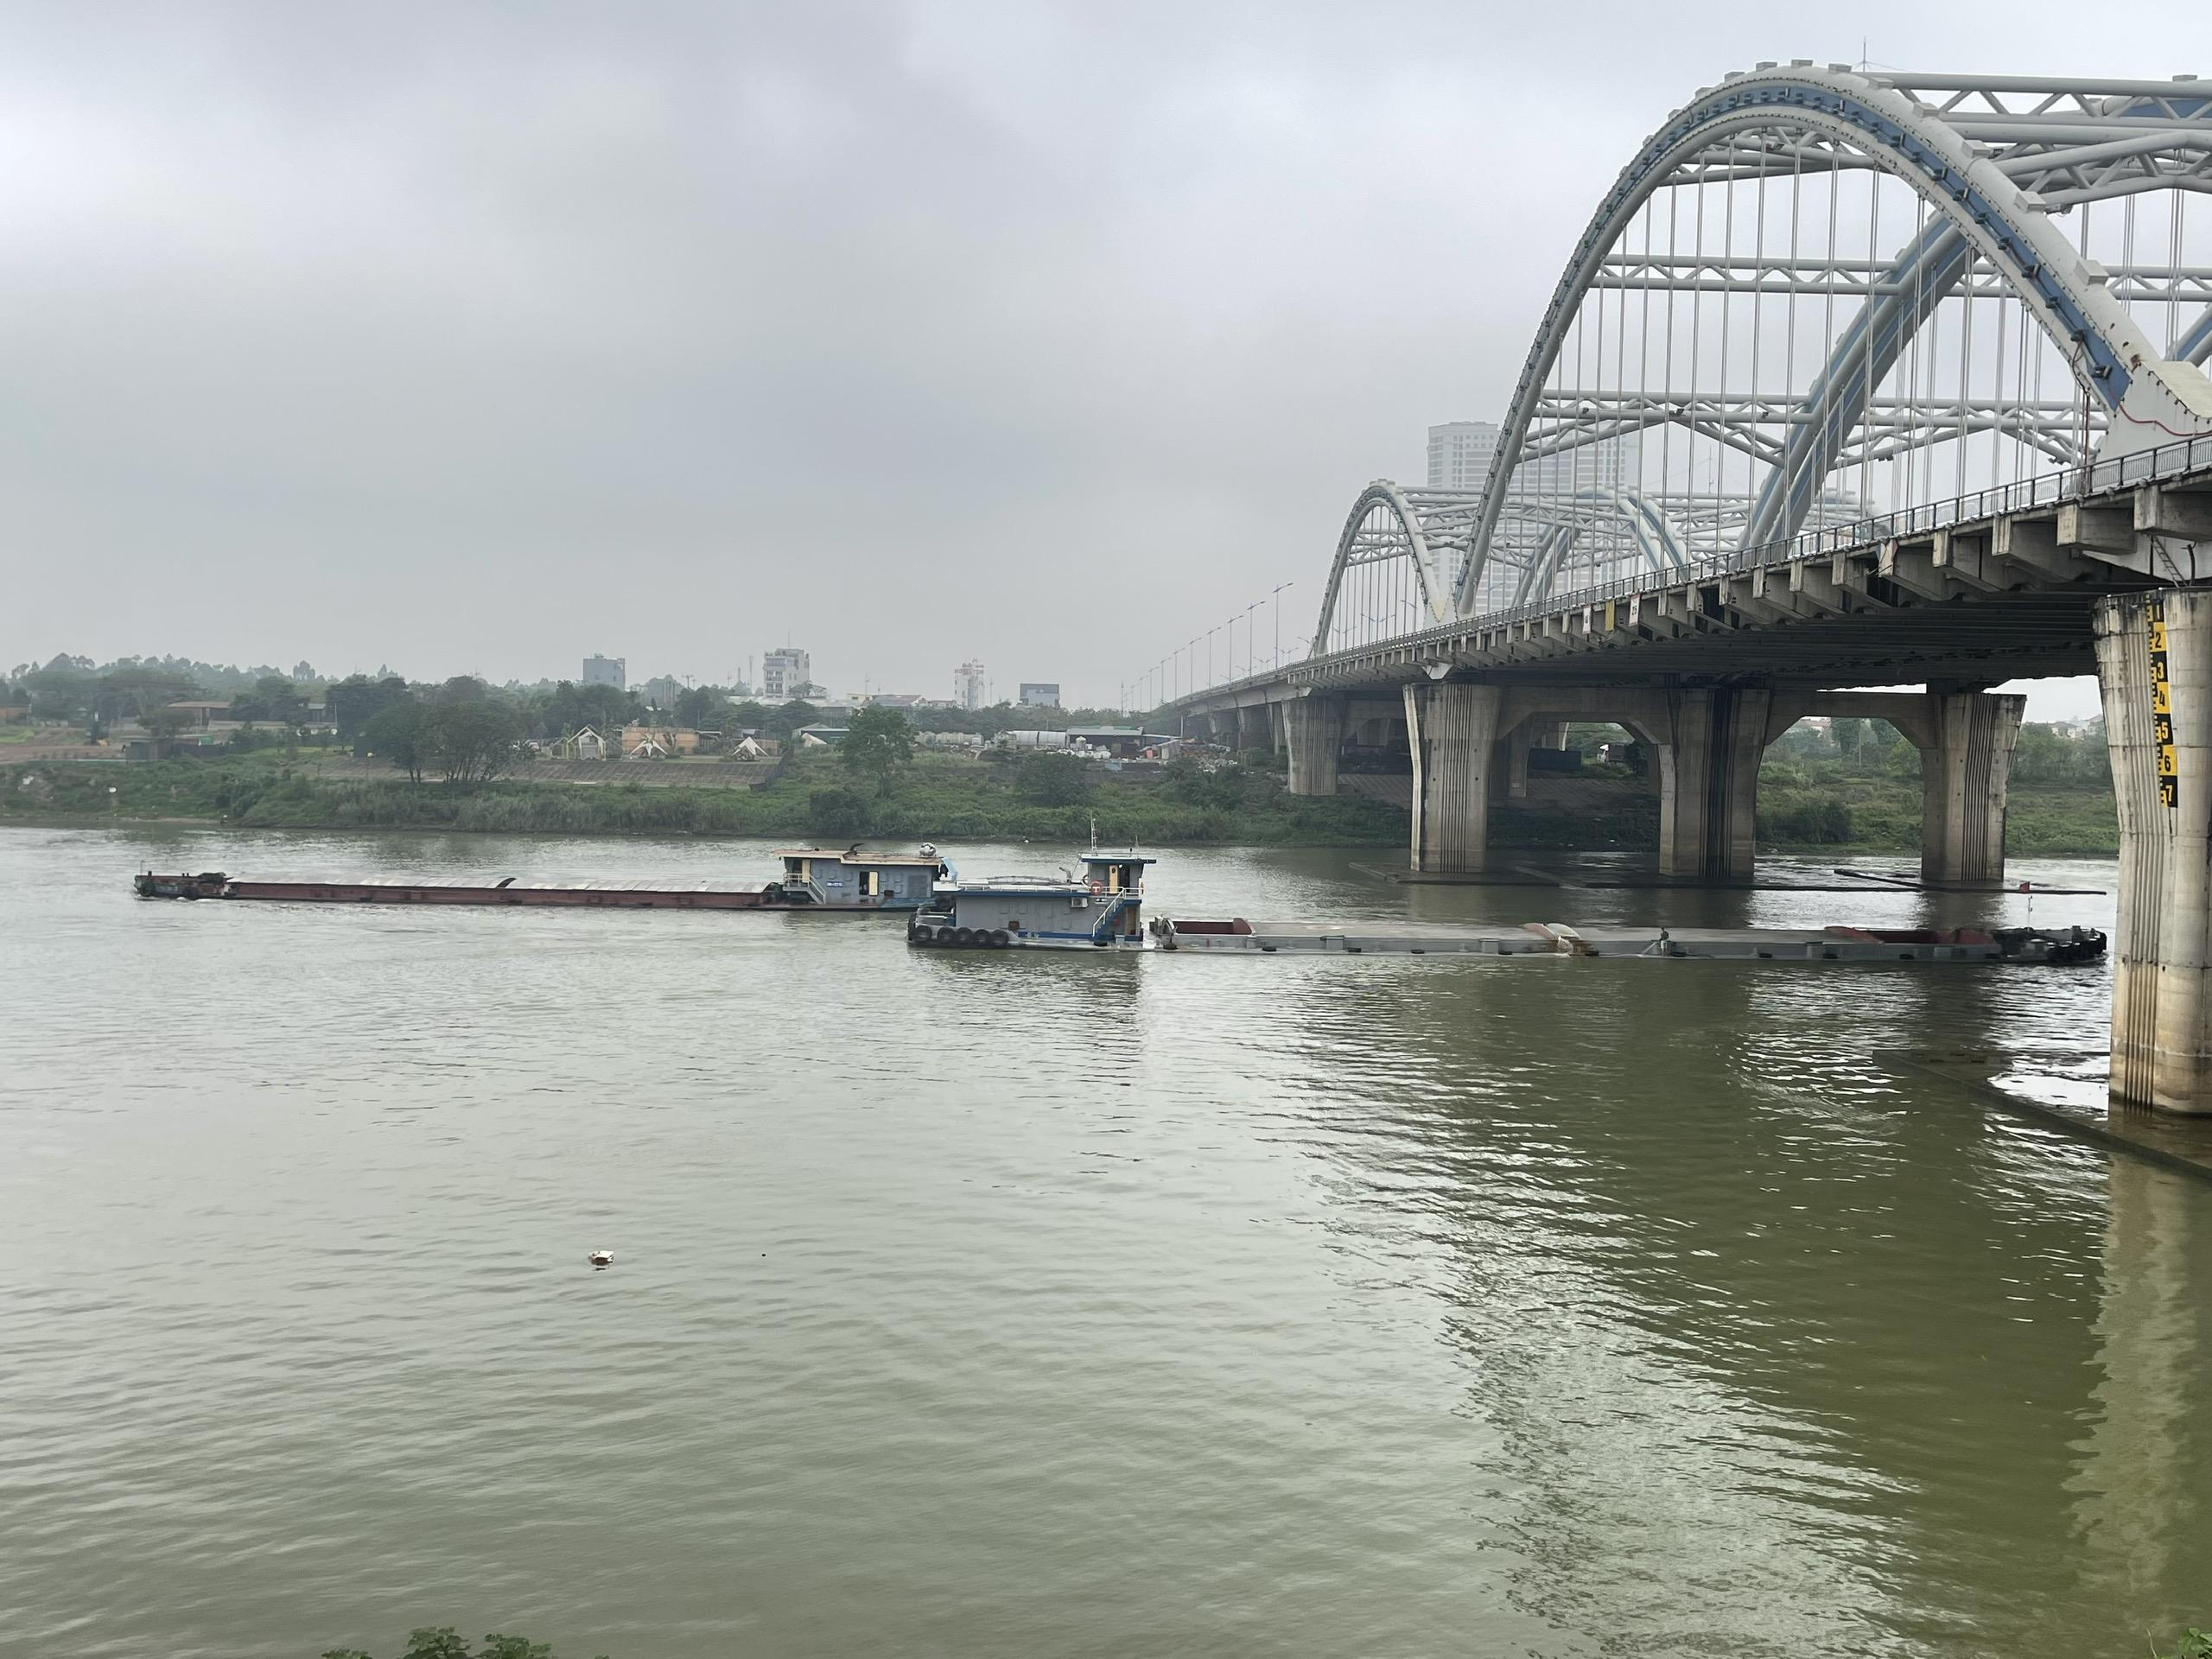Ship: (927, 863, 2107, 974), (122, 845, 918, 918)
